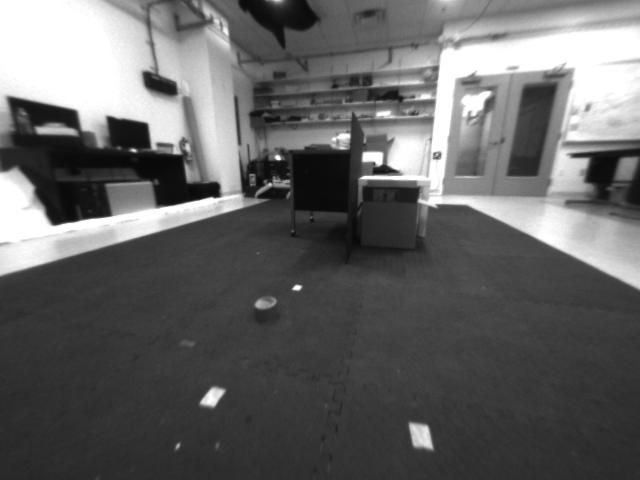dogtoy: (232, 280, 295, 336)
